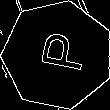P_W: (29, 32, 87, 78)
